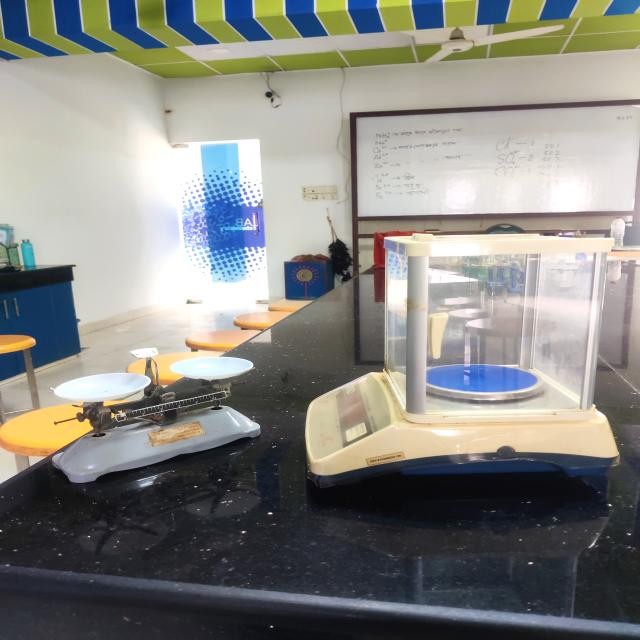Mechanical_Balance_Scale: (43, 342, 273, 500)
Precision_Weight_Scale: (294, 214, 640, 514)
